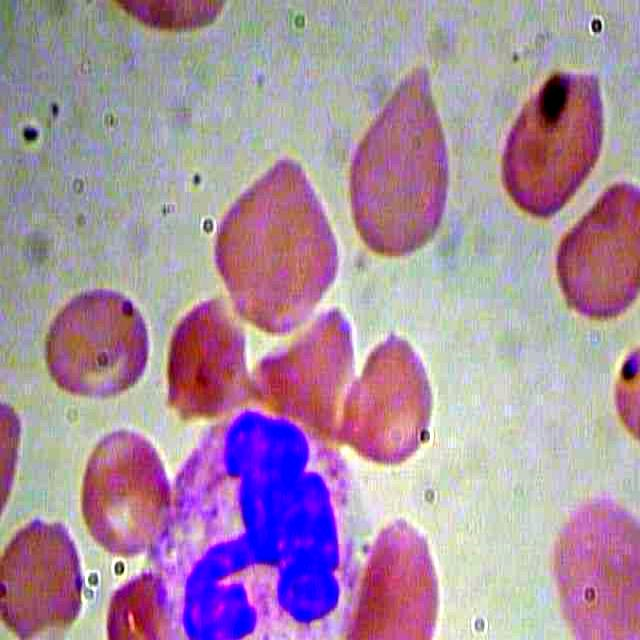RBC: (202, 150, 341, 346), (344, 63, 465, 261), (338, 304, 452, 468), (344, 476, 458, 640), (496, 62, 610, 225), (534, 476, 640, 640), (30, 284, 160, 408), (73, 427, 177, 565), (555, 180, 640, 329), (1, 515, 85, 636)
WBC: (147, 405, 368, 640)
